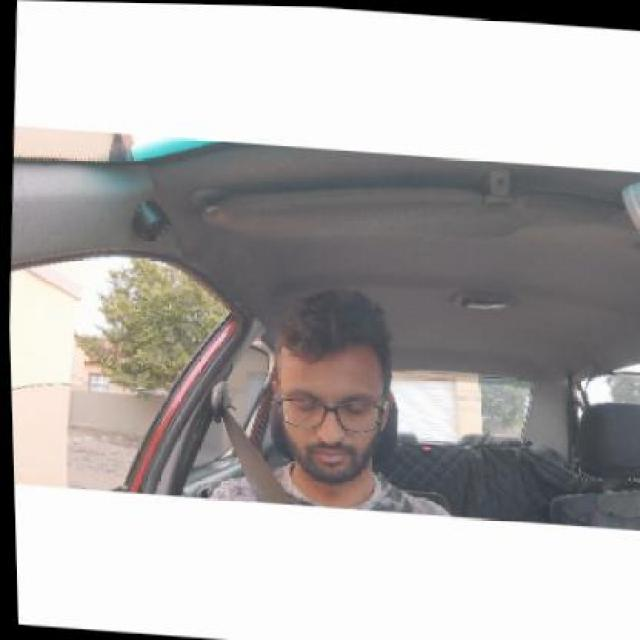drowsy: (262, 280, 402, 490)
